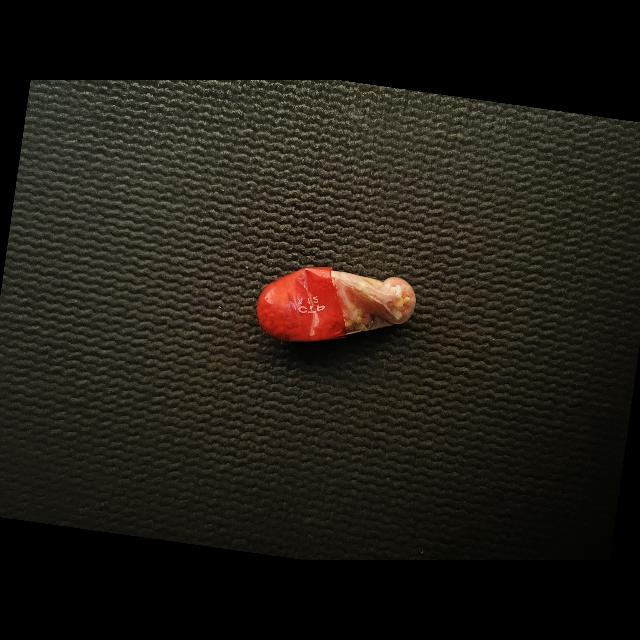Defective Capsule: (256, 267, 416, 342)
